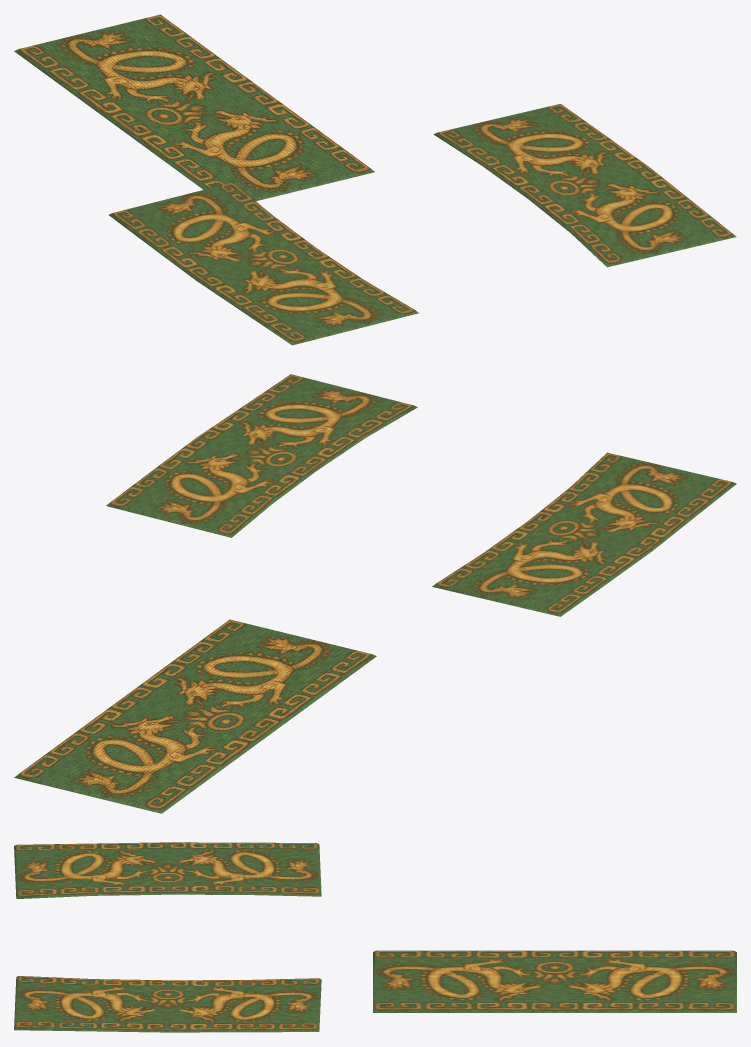
Rendered from carpets.obj.
3 renders of one model, top to bottom at view 1: azimuth 30°, elevation 25°; view 2: azimuth 150°, elevation 25°; view 3: azimuth 270°, elevation 25°, orthographic. The views are drawn at different scales.
Visible parts, largest first — view 1: Structure_Mrugs_0; view 2: Structure_Mrugs_0; view 3: Structure_Mrugs_0.
Boxes of the visible parts, bbox=[...] form: Structure_Mrugs_0: bbox=[14, 14, 736, 345]; Structure_Mrugs_0: bbox=[14, 374, 736, 813]; Structure_Mrugs_0: bbox=[14, 842, 736, 1032].
Bounding box in the file's own units: 496 × 57.71 × 802.
1 material, 1 textured.
